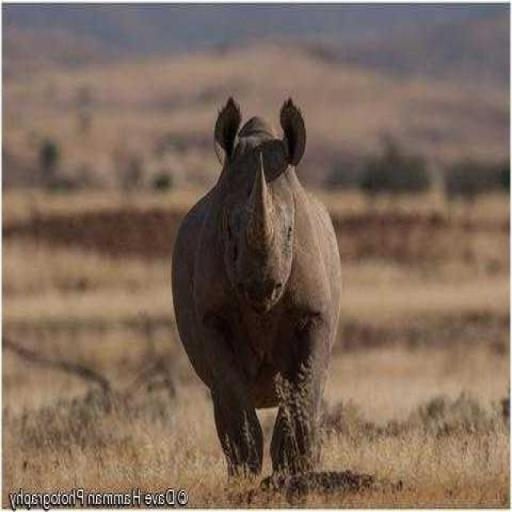Rhino: (170, 94, 342, 485)
